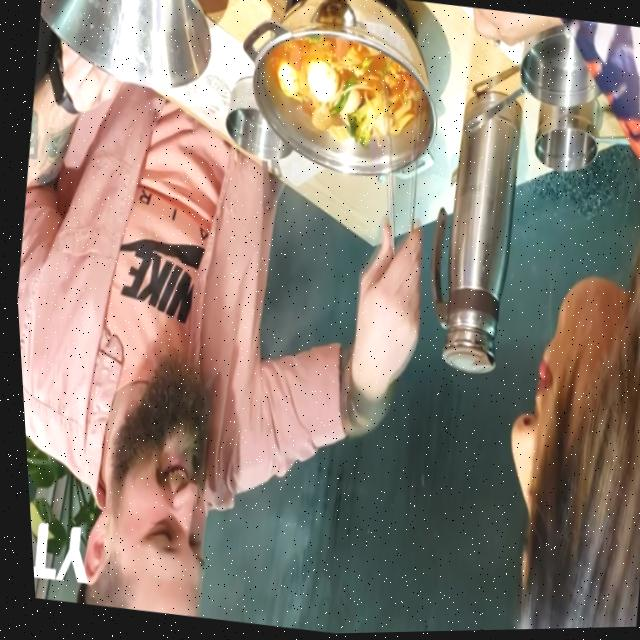eating-person: (0, 0, 488, 640)
